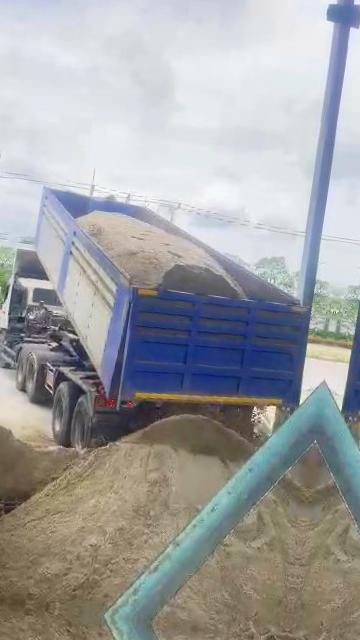sand: (0, 404, 296, 615), (157, 480, 307, 639), (78, 211, 244, 298), (0, 398, 77, 501), (290, 443, 316, 491)
